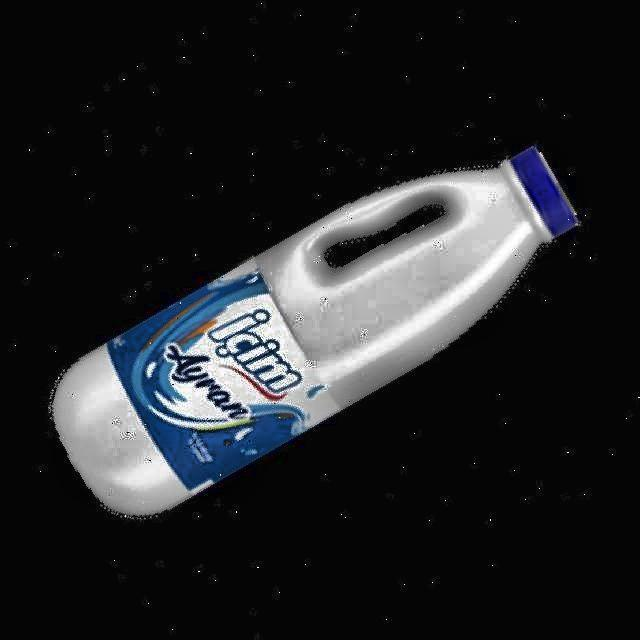plastic: (52, 148, 578, 515)
